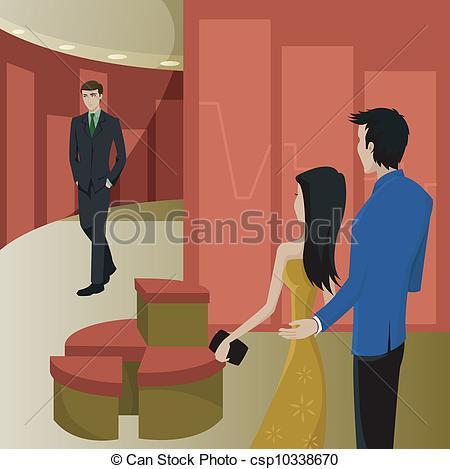person: (332, 104, 430, 447), (264, 162, 349, 451), (56, 78, 126, 298)
